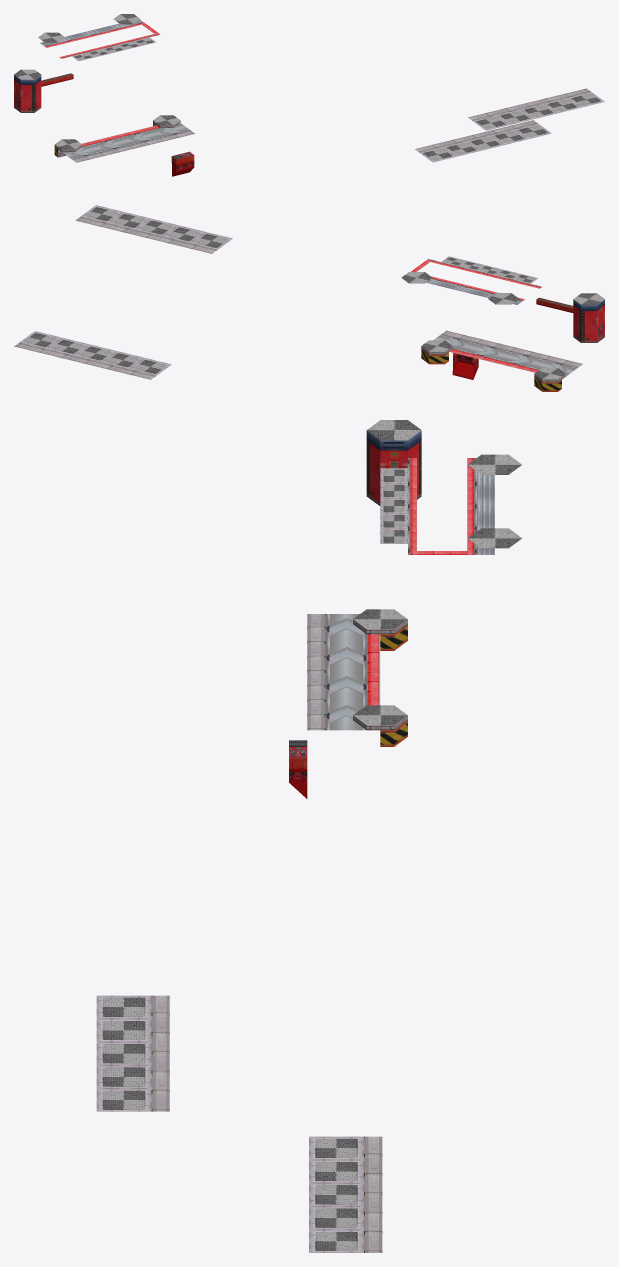
Rendered from S13_ONS_05.OBJ.
3 renders of one model, top to bottom at view 1: azimuth 30°, elevation 25°; view 2: azimuth 150°, elevation 25°; view 3: azimuth 270°, elevation 25°, orthographic. The views are drawn at different scales.
Visible parts, largest first — view 1: s13_ons_05_3, s13_ons_05_10, s13_ons_05_8, s13_ons_05_5, s13_ons_05_1, s13_ons_05_11; view 2: s13_ons_05_3, s13_ons_05_10, s13_ons_05_8, s13_ons_05_5, s13_ons_05_1, s13_ons_05_9, s13_ons_05_11; view 3: s13_ons_05_3, s13_ons_05_10, s13_ons_05_8, s13_ons_05_5, s13_ons_05_11.
Part boxes in pixels (x1,y1,x2,y2): s13_ons_05_3: (14,14,604,162); s13_ons_05_10: (45,22,190,159); s13_ons_05_8: (58,88,590,162); s13_ons_05_5: (14,75,41,112); s13_ons_05_1: (41,75,194,176); s13_ons_05_11: (40,20,142,46); s13_ons_05_3: (19,205,604,379); s13_ons_05_10: (411,259,577,376); s13_ons_05_8: (14,216,582,379); s13_ons_05_5: (573,299,604,342); s13_ons_05_1: (452,299,573,379); s13_ons_05_9: (421,349,561,391); s13_ons_05_11: (426,279,522,304); s13_ons_05_3: (96,420,522,1252); s13_ons_05_10: (325,458,476,730); s13_ons_05_8: (151,614,382,1252); s13_ons_05_5: (366,430,421,505); s13_ons_05_11: (476,472,494,554).
Size of the model in its own units: 1294 by 416 by 465.
12 materials, 12 textured.
